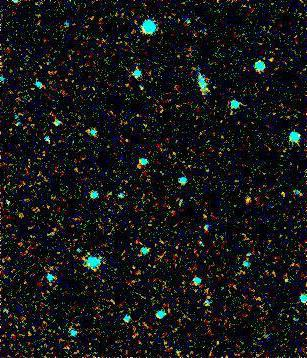star: (234, 183, 264, 213)
